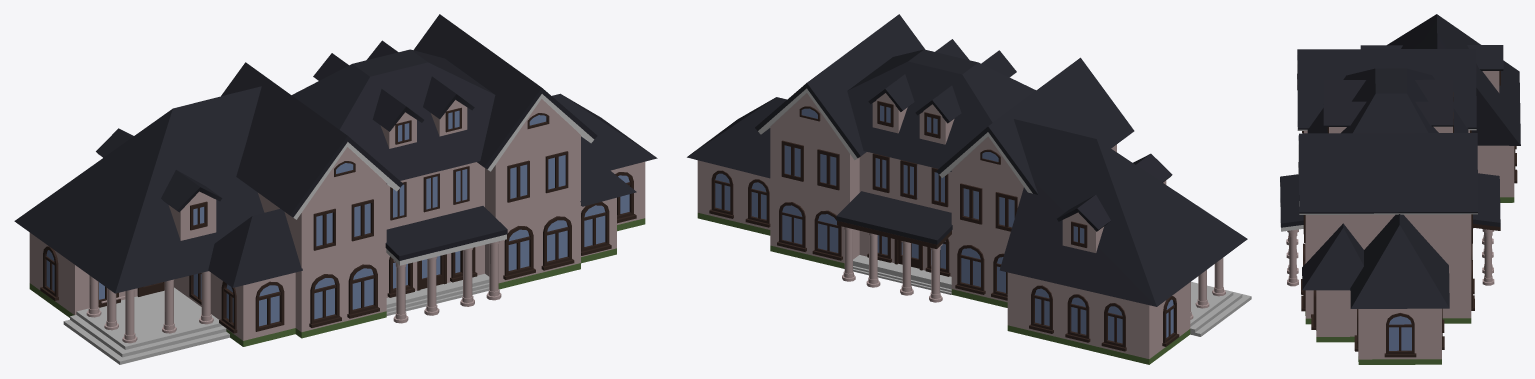
The model's file is Mansion_01.fbx.
3 renders of one model, left to right at view 1: azimuth 30°, elevation 25°; view 2: azimuth 150°, elevation 25°; view 3: azimuth 270°, elevation 25°, orthographic. The views are drawn at different scales.
Visible parts, largest first — view 1: Mansion_01; view 2: Mansion_01; view 3: Mansion_01.
Part boxes in pixels (<box>): Mansion_01: <box>14,14,657,364</box>; Mansion_01: <box>687,14,1251,364</box>; Mansion_01: <box>1280,14,1520,364</box>.
Size of the model in its own units: 31.86 by 11.41 by 13.7.
